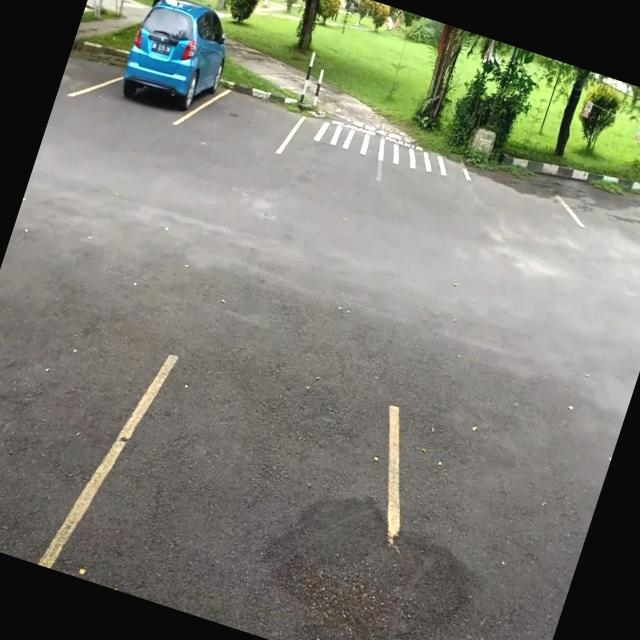empty: (61, 328, 413, 640), (328, 401, 609, 640), (192, 64, 309, 162)
occupied: (104, 23, 227, 136)
